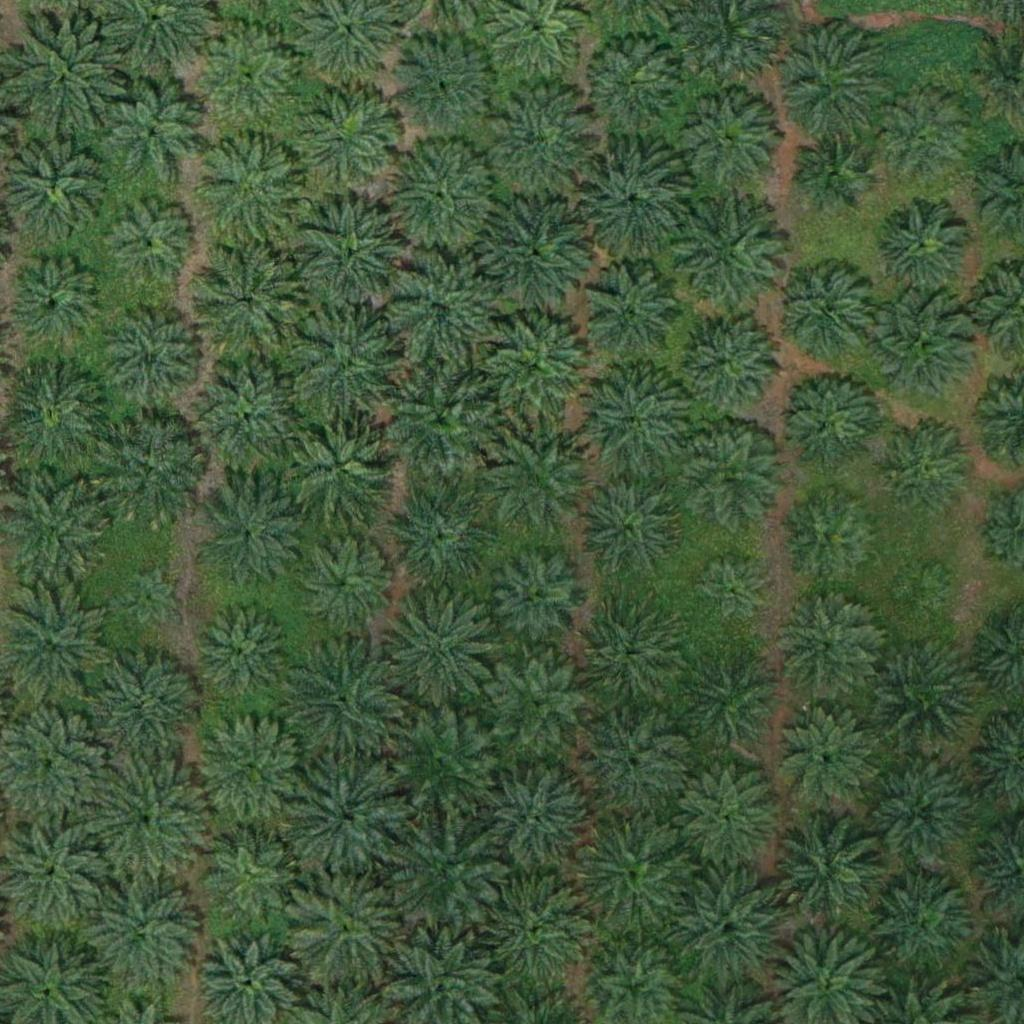Kelapa_Sawit: (773, 28, 886, 142), (863, 288, 976, 402), (382, 702, 495, 816), (288, 638, 401, 752), (194, 482, 307, 596), (389, 812, 502, 926), (195, 135, 308, 248), (187, 244, 300, 357), (384, 28, 497, 141), (487, 82, 600, 195), (479, 192, 592, 305), (580, 367, 693, 480), (481, 313, 594, 426), (292, 312, 405, 425), (283, 411, 396, 524), (288, 760, 401, 873), (192, 363, 305, 476), (289, 873, 402, 986), (578, 811, 691, 924), (675, 871, 788, 984), (671, 82, 783, 196), (477, 763, 589, 877), (94, 417, 206, 531), (485, 871, 597, 985), (7, 18, 119, 131), (1, 131, 113, 244), (295, 199, 407, 312), (383, 142, 495, 255), (384, 254, 496, 367), (575, 135, 687, 248), (673, 200, 785, 313), (866, 636, 978, 749), (864, 758, 976, 871), (576, 708, 688, 821), (483, 424, 595, 537), (386, 364, 498, 477), (382, 476, 494, 589), (384, 588, 496, 701), (195, 715, 307, 828), (89, 649, 201, 762), (91, 762, 203, 875), (85, 880, 197, 993), (772, 812, 884, 925), (862, 865, 974, 978), (100, 80, 200, 181), (196, 26, 296, 127), (296, 86, 396, 187), (581, 264, 681, 365), (880, 418, 980, 519), (778, 367, 878, 468), (782, 486, 882, 587), (774, 594, 874, 695), (774, 705, 874, 806), (678, 312, 778, 413), (679, 424, 779, 525), (681, 650, 781, 751), (679, 766, 779, 867), (579, 473, 679, 574), (576, 606, 676, 707), (489, 550, 589, 651), (489, 653, 589, 754), (200, 820, 300, 921), (103, 309, 203, 409), (582, 30, 682, 130), (771, 263, 871, 363), (873, 86, 973, 186), (870, 198, 970, 298), (293, 532, 393, 632), (191, 601, 291, 701), (109, 199, 196, 287), (794, 132, 869, 208), (692, 556, 767, 631), (889, 560, 951, 623), (118, 565, 180, 628)
